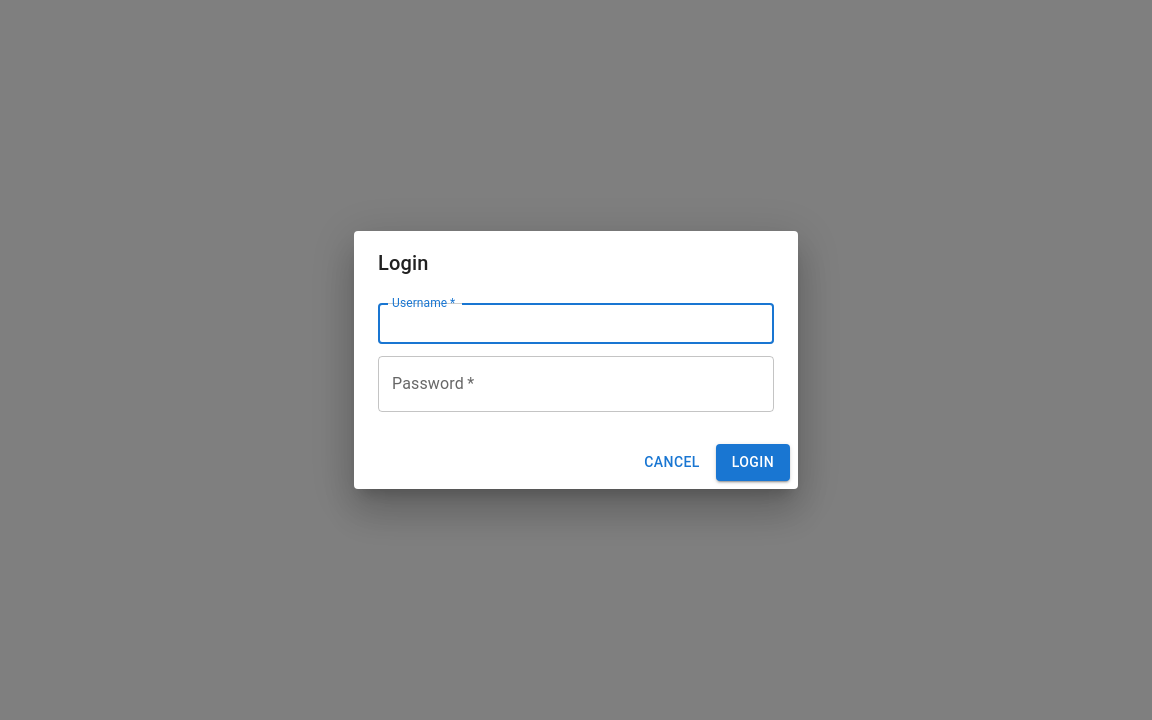
Scenario: LoginDialog › shows error message on failed login
The image size is (1152, 720).
In the field labelled "Username *": (576, 324) [378,303,774,344], type "baduser"
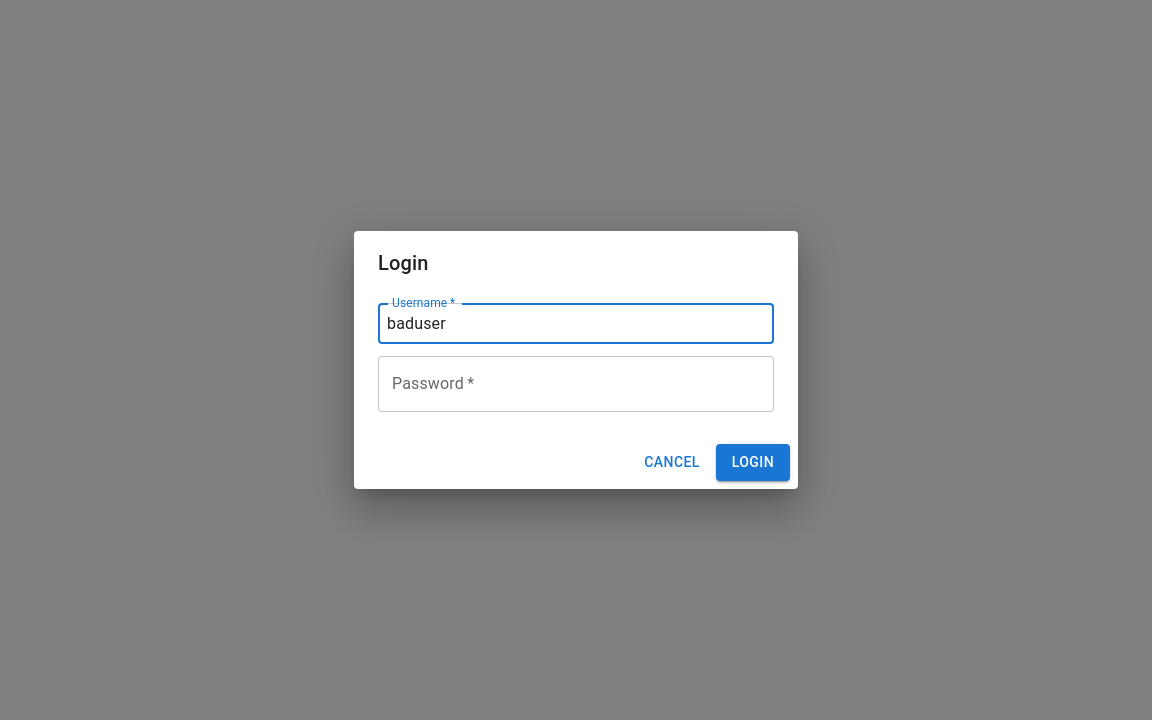
In the password field labelled "Password *": (576, 384) [378,356,774,412], type "badpass"
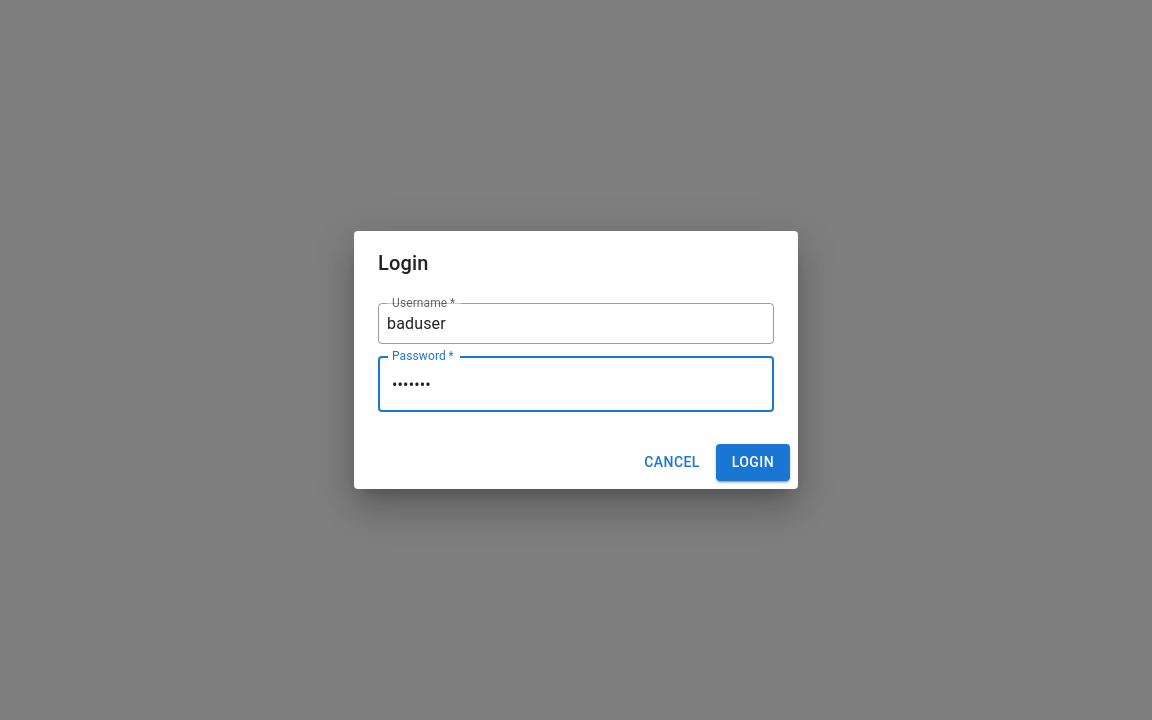
Click the button "Login": (753, 463) [716,444,790,481]
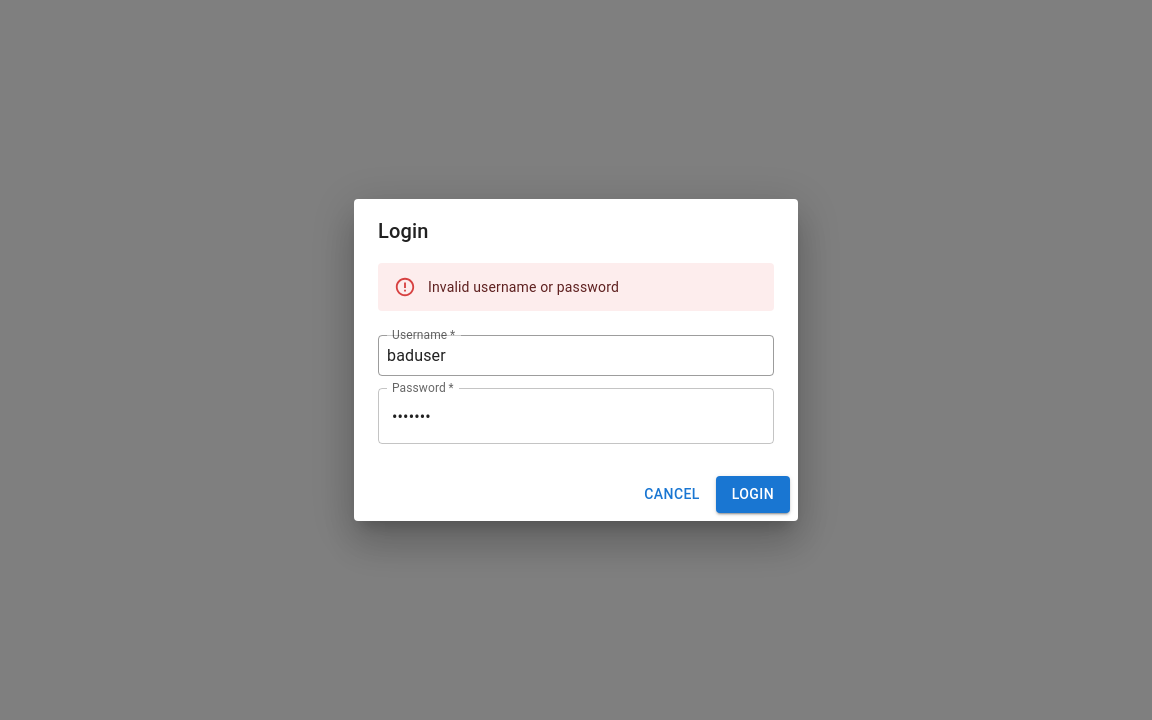
Expected: the text "Invalid username or password" is shown, [428,279,619,295]
